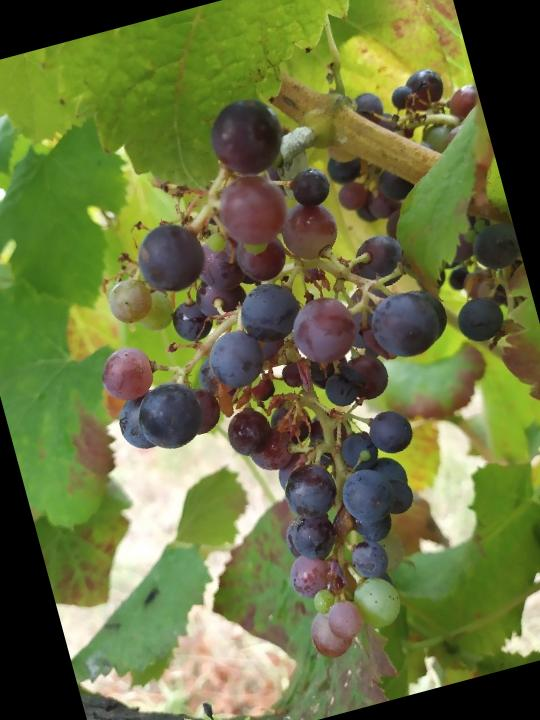grape: (30, 57, 529, 702)
